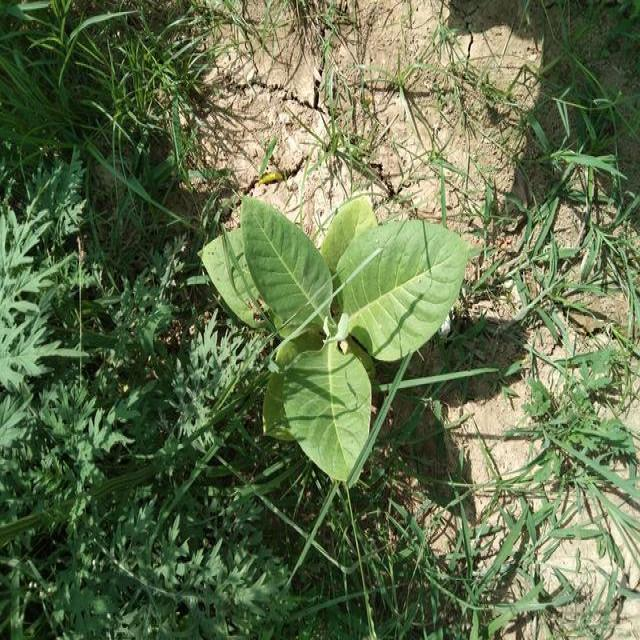crop: (194, 171, 474, 476)
